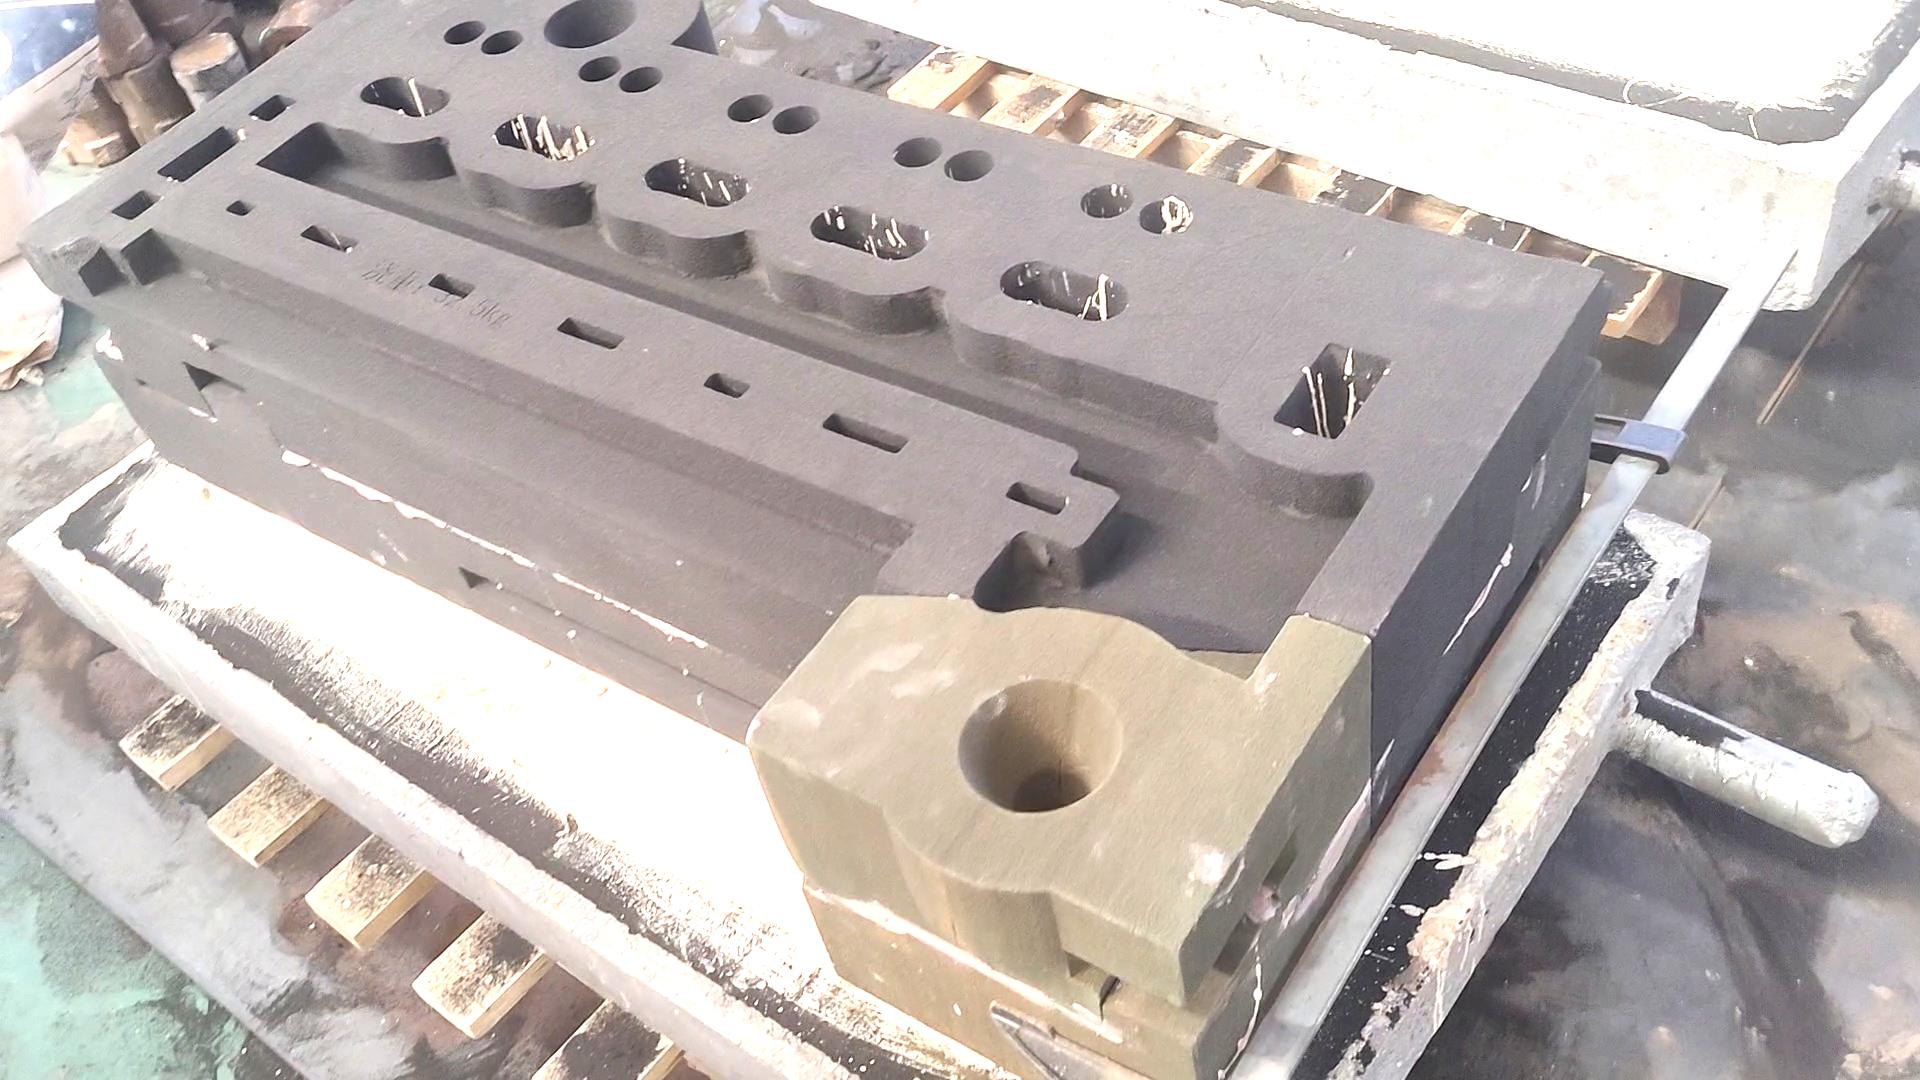pouring hole: (957, 679, 1122, 814), (543, 1, 640, 47)
